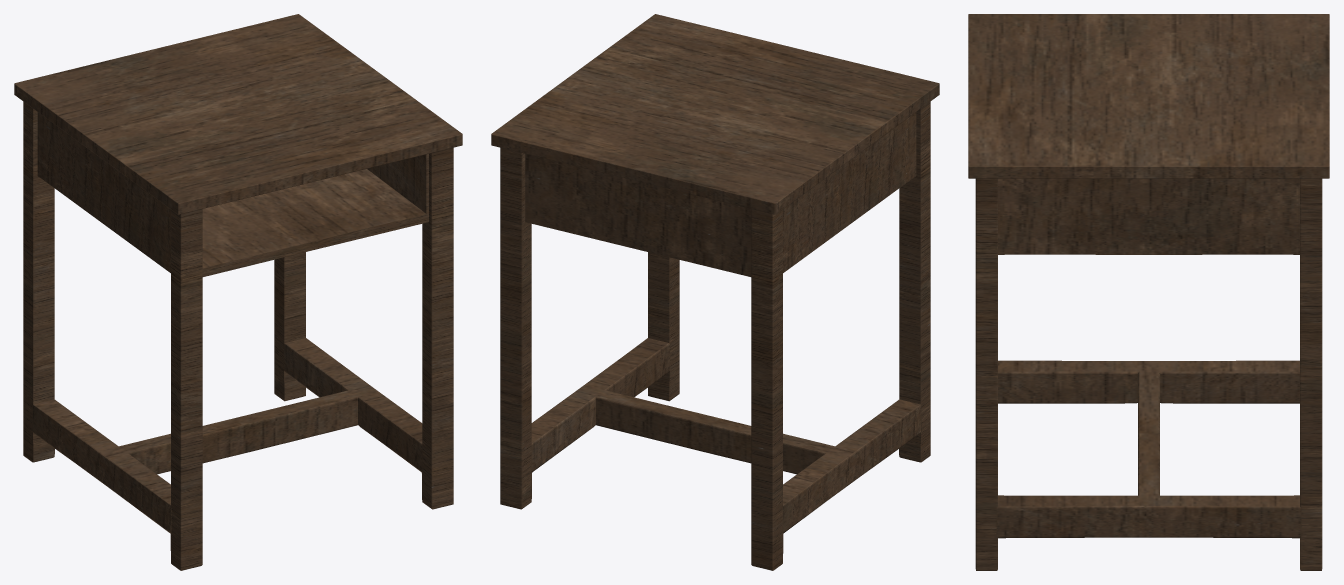
Rendered from Table.fbx.
3 renders of one model, left to right at view 1: azimuth 30°, elevation 25°; view 2: azimuth 150°, elevation 25°; view 3: azimuth 270°, elevation 25°, orthographic. The views are drawn at different scales.
Parts seen in each view (by area): view 1: Cube; view 2: Cube; view 3: Cube.
Boxes of the visible parts, x1=… form: Cube: x1=14, y1=14, x2=462, y2=570; Cube: x1=491, y1=14, x2=939, y2=570; Cube: x1=968, y1=14, x2=1329, y2=570.
Size of the model in its own units: 242 by 302 by 242.
